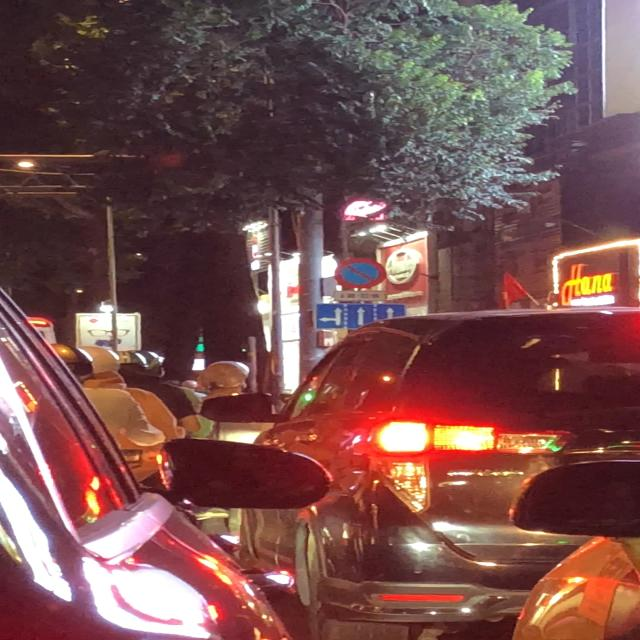Bien bao cam do xe: (331, 257, 386, 292)
